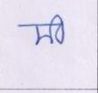i_matra: (53, 14, 64, 43)
